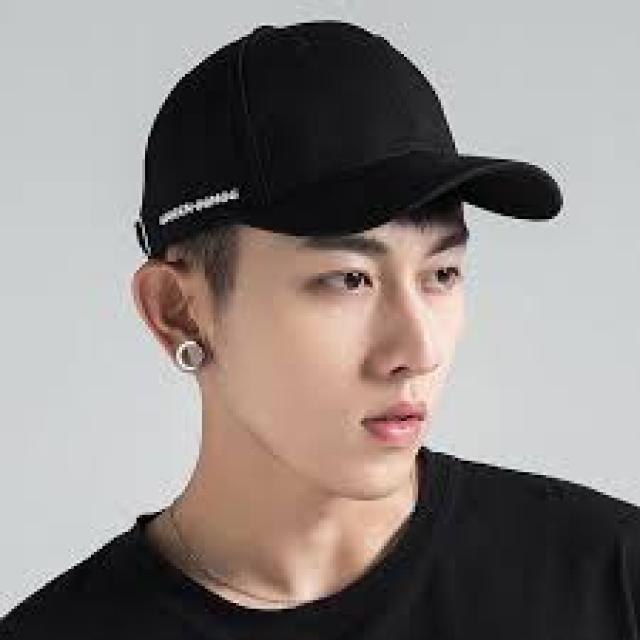cap: (118, 9, 580, 292)
